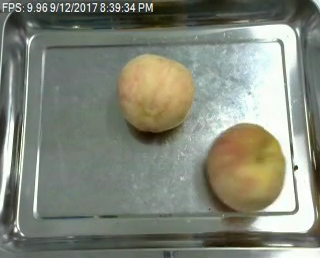Peach: (205, 121, 285, 212), (117, 52, 194, 132)
